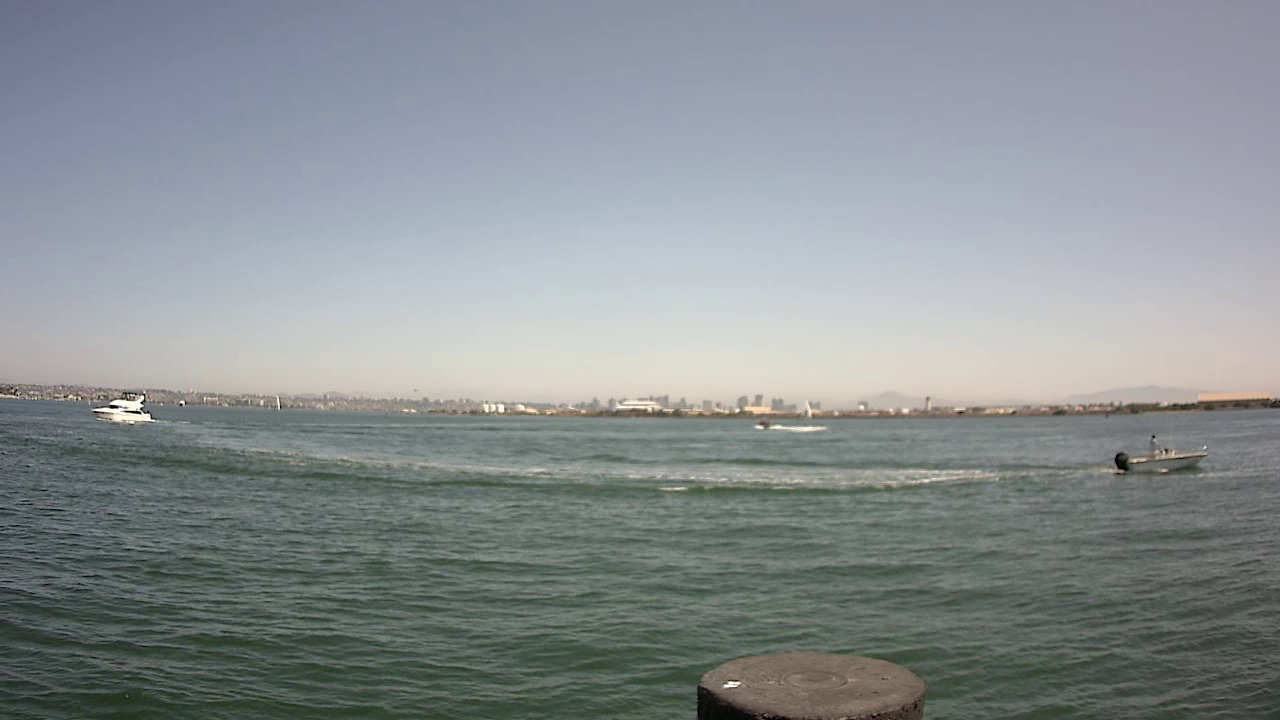target: (1113, 427, 1214, 479)
